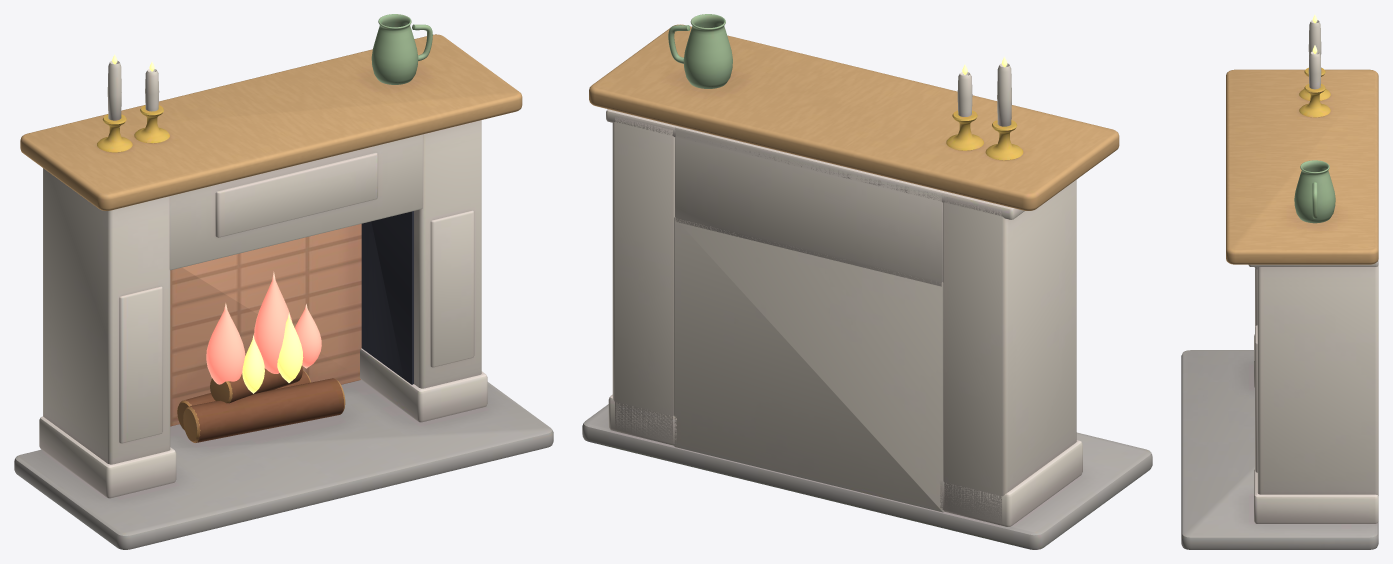
File: fireplace.glb
The picture shows the model from 3 angles, left to right: view 1: azimuth 30°, elevation 25°; view 2: azimuth 150°, elevation 25°; view 3: azimuth 270°, elevation 25°; orthographic projection. The views are drawn at different scales.
Visible parts, largest first — view 1: fireplace_body, fireplace_flames_glow; view 2: fireplace_body; view 3: fireplace_body.
Boxes of the visible parts, <box> form: fireplace_body: <box>14,14,553,549</box>; fireplace_flames_glow: <box>206,271,321,393</box>; fireplace_body: <box>582,14,1152,549</box>; fireplace_body: <box>1181,20,1378,549</box>.
Size of the model in its own units: 1.4 by 1.31 by 0.62.
4 materials, 1 textured.
